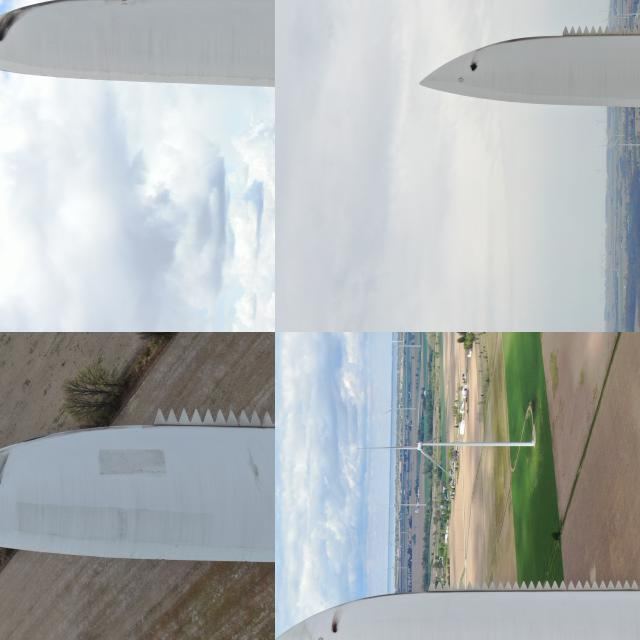damage: (0, 2, 35, 43), (0, 450, 9, 487), (326, 614, 341, 634), (466, 61, 482, 72), (0, 481, 2, 486)
